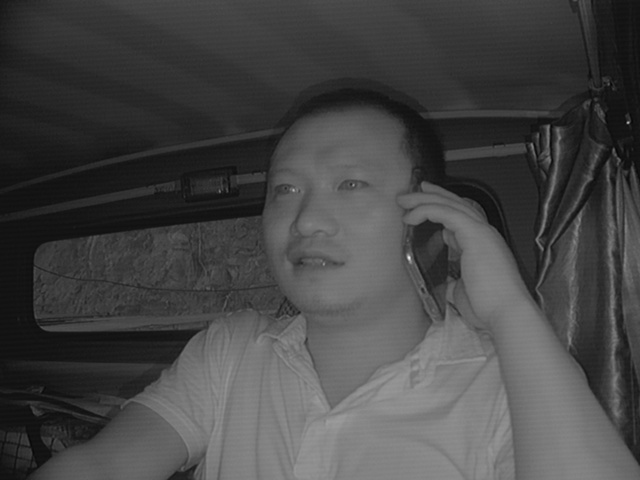hand: (400, 178, 504, 324)
